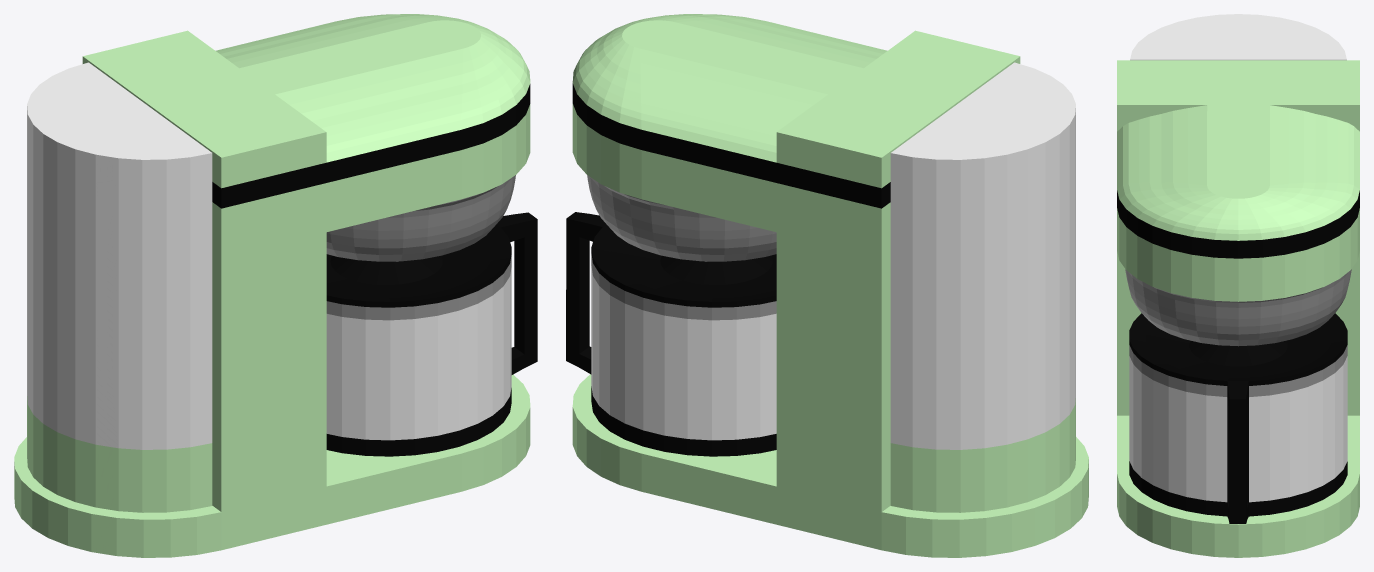
File: Phillips.glb
3 renders of one model, left to right at view 1: azimuth 30°, elevation 25°; view 2: azimuth 150°, elevation 25°; view 3: azimuth 270°, elevation 25°, orthographic. The views are drawn at different scales.
Parts seen in each view (by area): view 1: Cafetière, Récipient, Carafe; view 2: Cafetière, Récipient, Carafe; view 3: Cafetière, Carafe, Récipient.
Part boxes in pixels (left/top/right/bottom): Cafetière: left=14, top=14, right=530, bottom=557; Récipient: left=27, top=62, right=212, bottom=512; Carafe: left=326, top=212, right=537, bottom=456; Cafetière: left=572, top=14, right=1088, bottom=557; Récipient: left=890, top=62, right=1075, bottom=512; Carafe: left=566, top=212, right=776, bottom=456; Cafetière: left=1117, top=60, right=1359, bottom=557; Carafe: left=1129, top=313, right=1347, bottom=523; Récipient: left=1130, top=14, right=1346, bottom=60.
Size of the model in its own units: 4.17 by 3.12 by 2.
